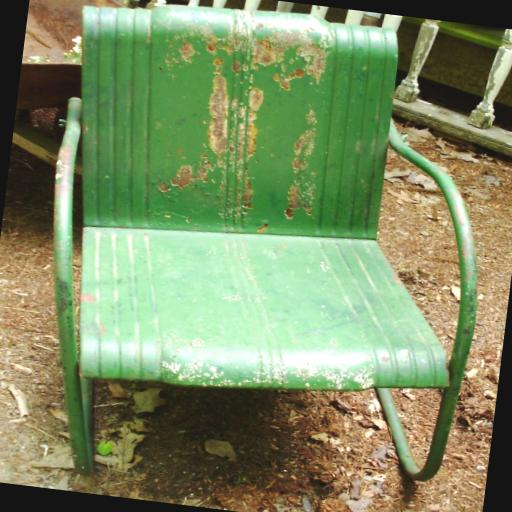corrosion: (288, 107, 323, 176)
